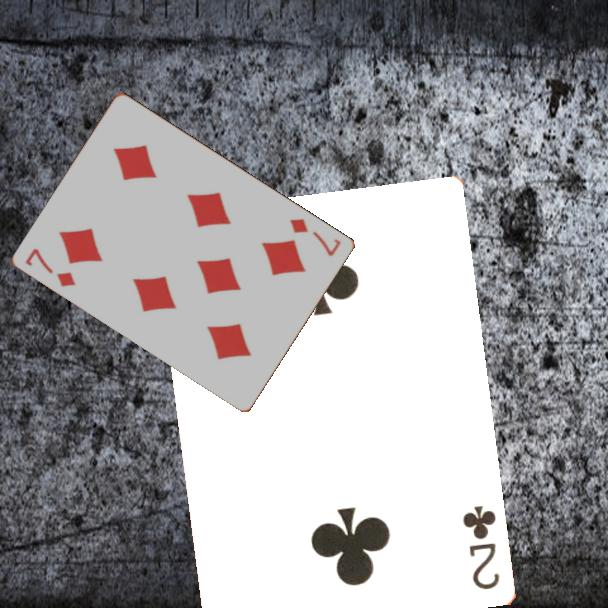c02: (459, 502, 503, 593)
d07: (22, 244, 79, 290), (287, 215, 344, 259)
